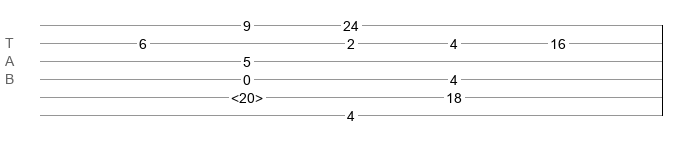0: (243, 72, 251, 82)
16: (550, 36, 566, 46)
18: (446, 90, 462, 100)
2: (347, 36, 355, 46)
24: (343, 18, 359, 28)
4: (347, 108, 355, 118), (450, 36, 458, 46), (450, 72, 458, 82)
5: (243, 54, 251, 64)
6: (139, 36, 147, 46)
9: (243, 18, 251, 28)
harmonic: (231, 90, 263, 100)
